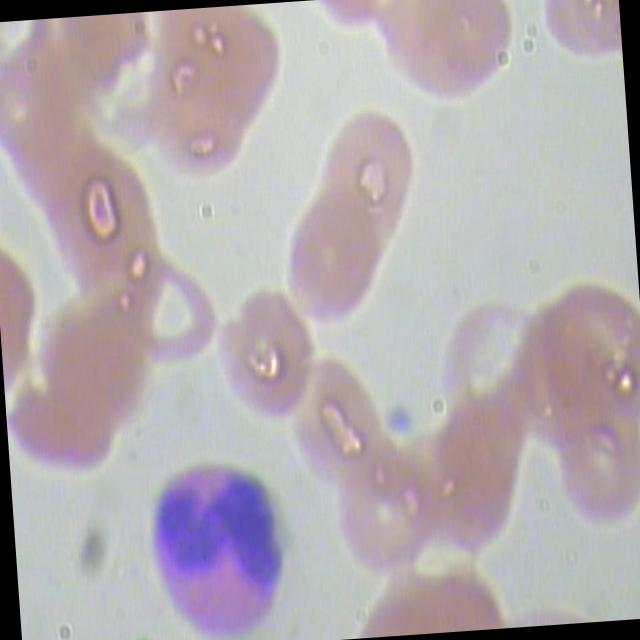Platelets: (380, 398, 420, 442)
RBC: (314, 101, 429, 270), (371, 0, 526, 113), (210, 284, 324, 432), (281, 187, 395, 334), (283, 357, 397, 504), (543, 399, 640, 546)
WBC: (137, 439, 309, 640)
